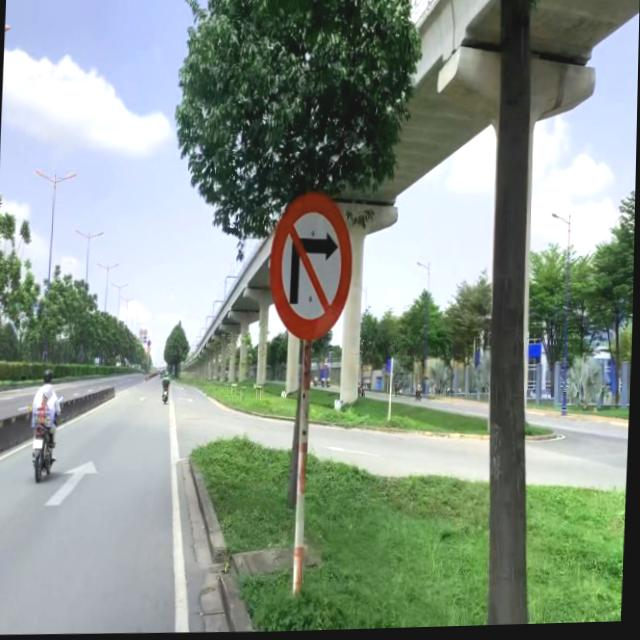Cam dung xe va do xe: (148, 341, 152, 346)
Cam re phai: (268, 193, 356, 344)
Toc do toi da cho phep: (144, 328, 148, 337), (140, 330, 144, 336)
